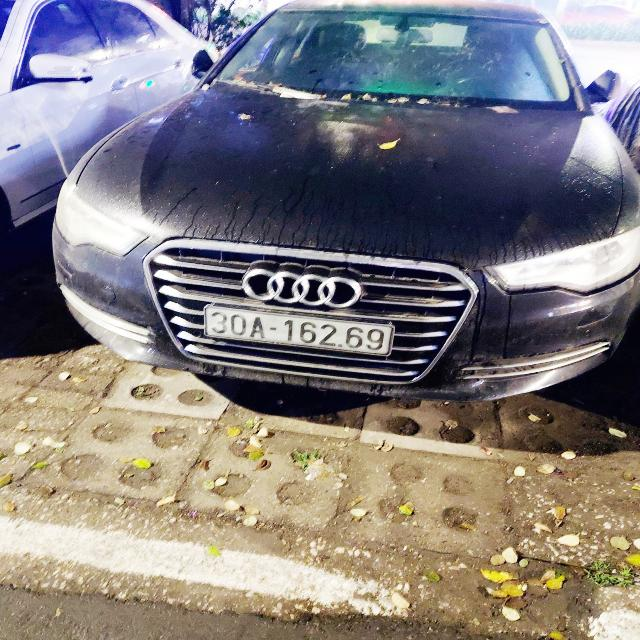license_plate: (201, 306, 395, 359)
